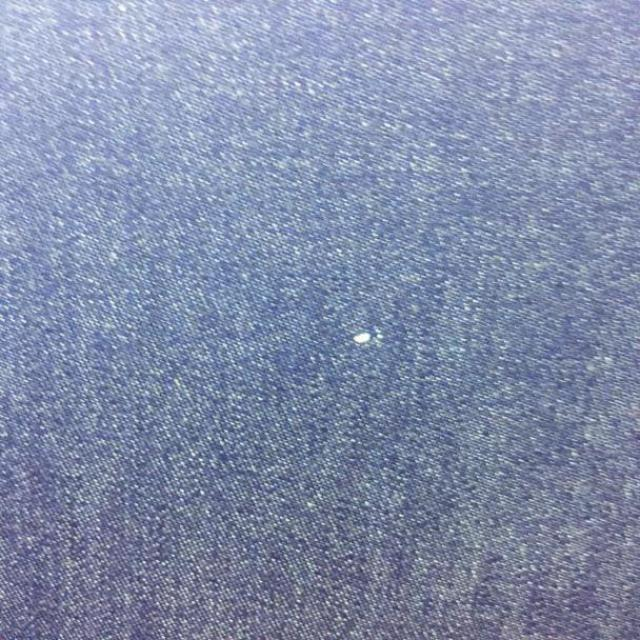Knot: (353, 331, 384, 346)
